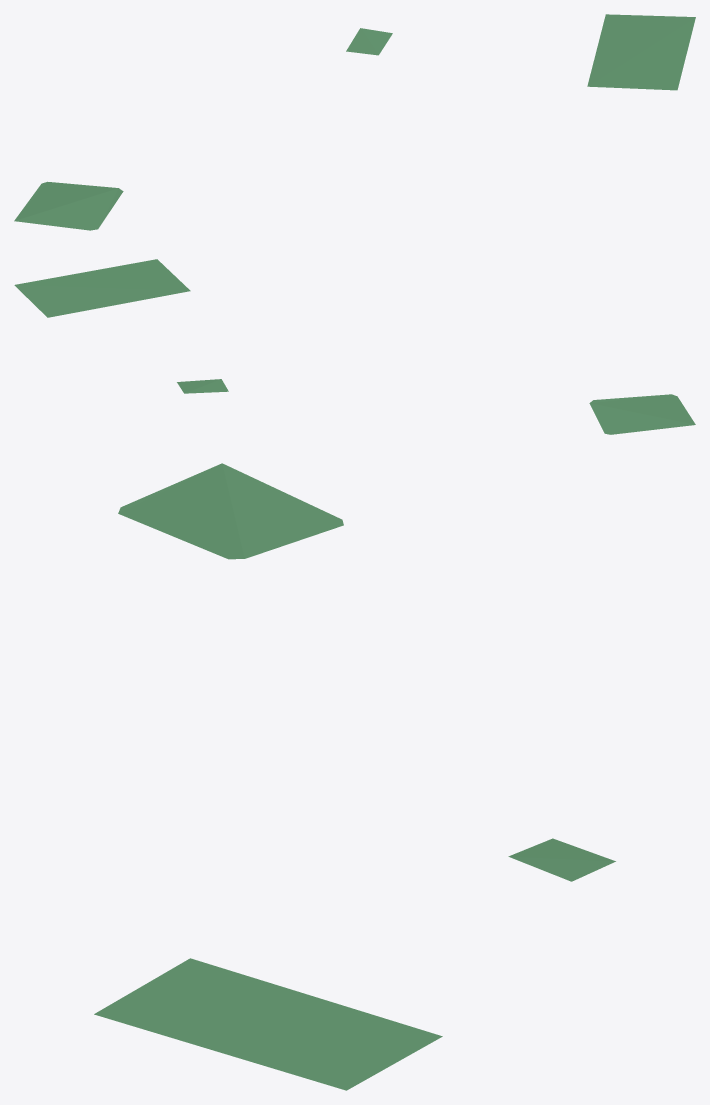
The model's file is green.glb.
The picture shows the model from 3 angles, top to bottom: view 1: azimuth 30°, elevation 25°; view 2: azimuth 150°, elevation 25°; view 3: azimuth 270°, elevation 25°; orthographic projection. The views are drawn at different scales.
Visible parts, largest first — view 1: green; view 2: green; view 3: green.
Part boxes in pixels (bbox=[...]): green: bbox=[14, 14, 695, 230]; green: bbox=[14, 259, 695, 434]; green: bbox=[94, 463, 615, 1090].
Size of the model in its own units: 482 by 3.71 by 168.
